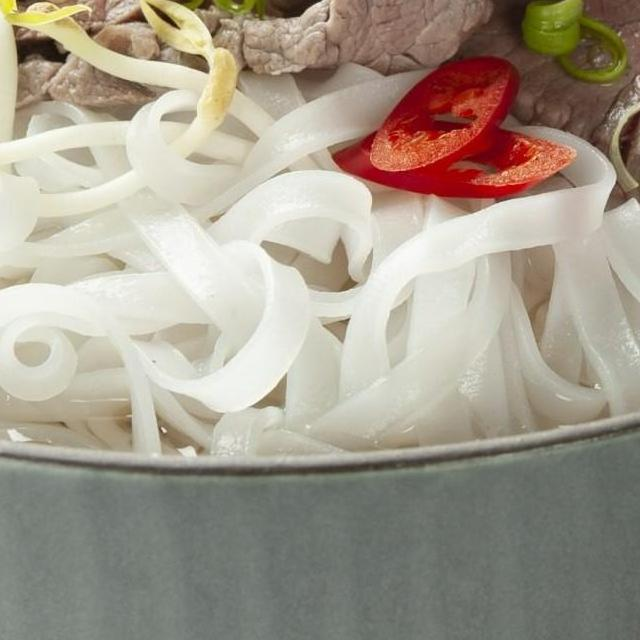banh pho: (0, 49, 622, 476), (533, 162, 640, 434)
pho bo: (0, 0, 640, 640)
thit bo: (152, 0, 640, 241)
